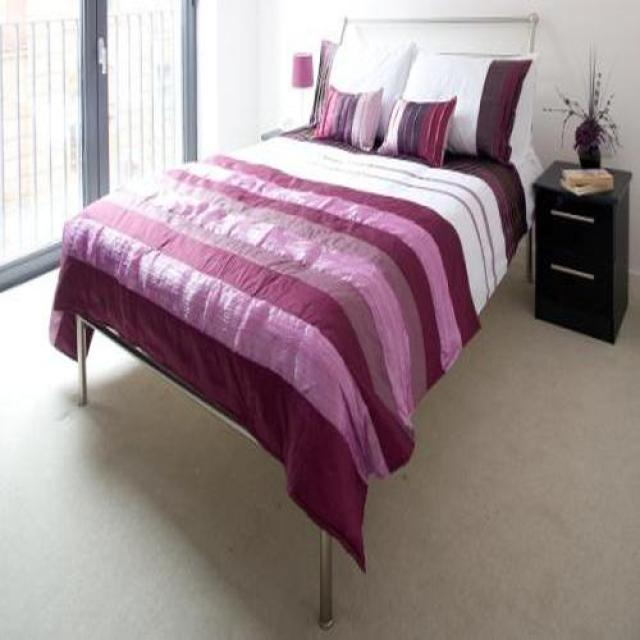bed: (49, 17, 540, 630)
